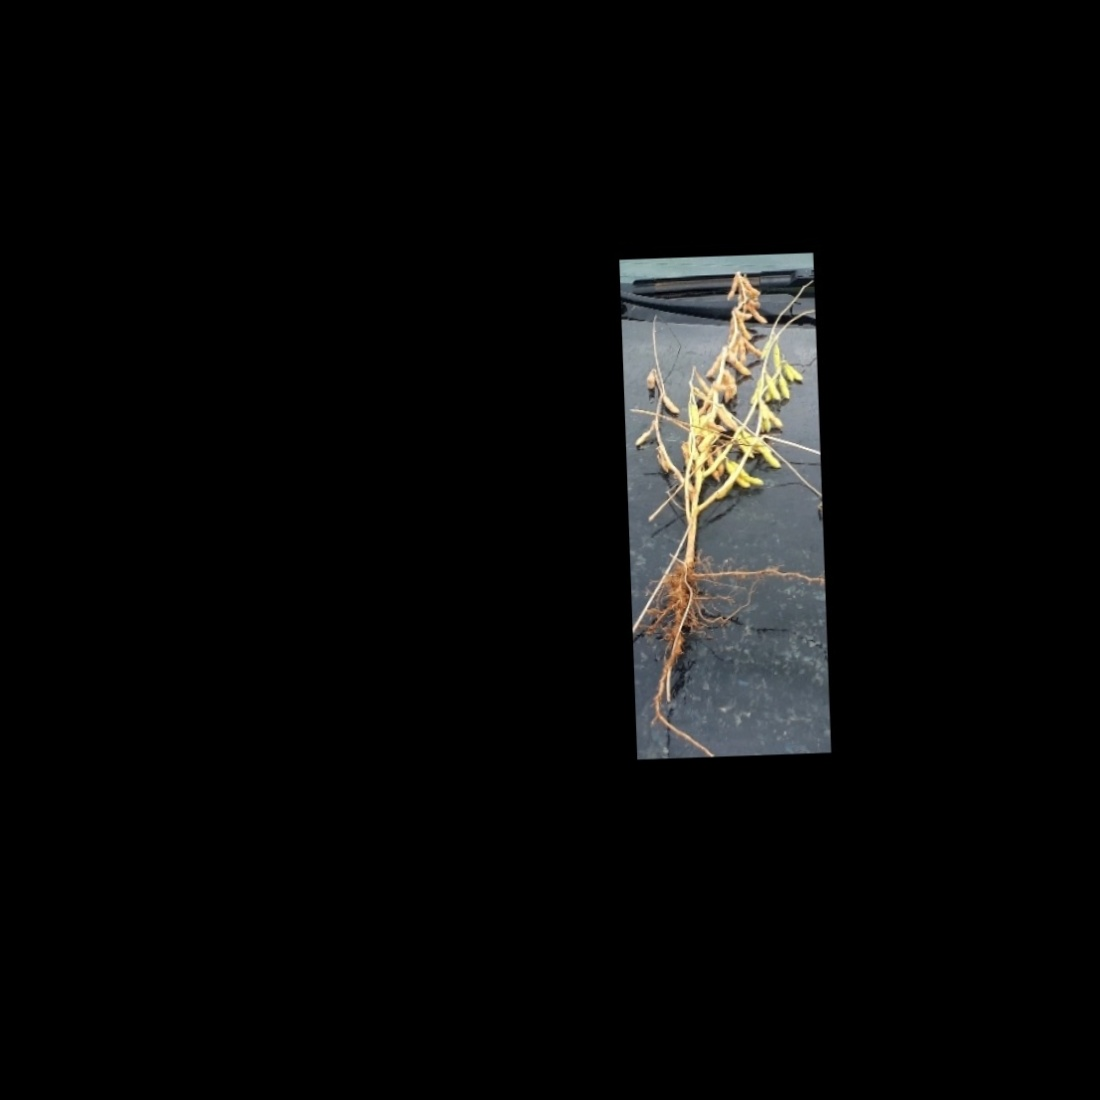pod: (757, 440, 784, 471), (724, 350, 753, 376), (633, 423, 657, 448), (658, 393, 682, 416), (782, 360, 804, 383), (776, 371, 791, 402), (725, 272, 739, 303)
soy: (624, 261, 818, 747)
